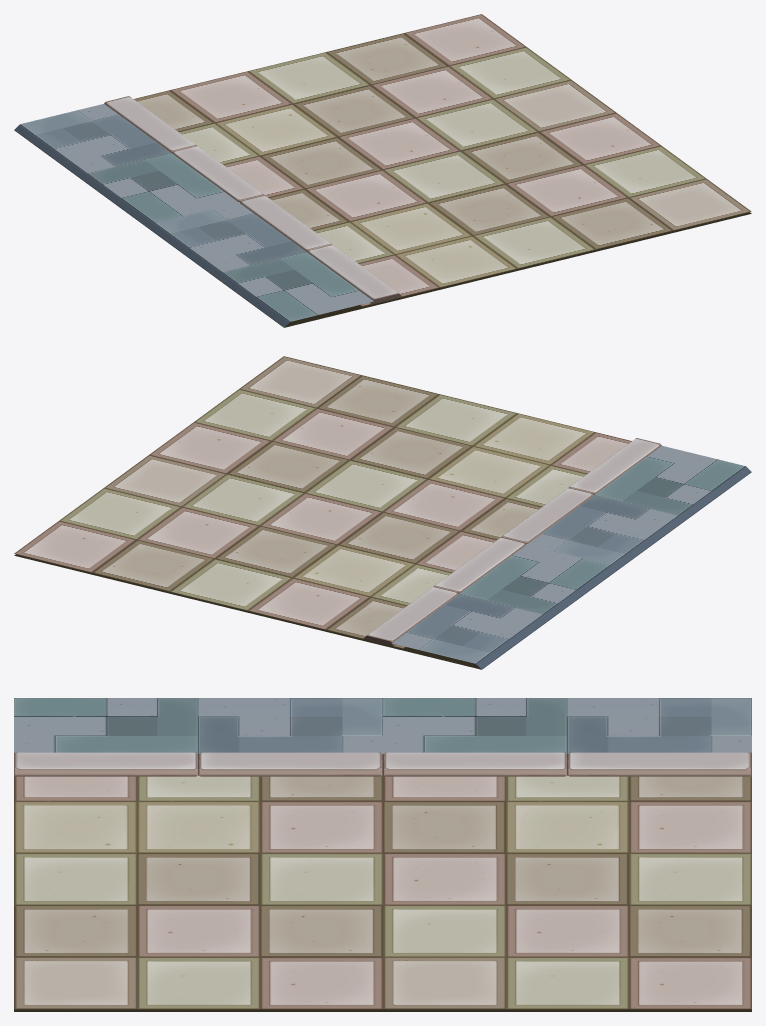
Rendered from road_openRoad.glb.
3 renders of one model, top to bottom at view 1: azimuth 30°, elevation 25°; view 2: azimuth 150°, elevation 25°; view 3: azimuth 270°, elevation 25°, orthographic. The views are drawn at different scales.
Parts seen in each view (by area): view 1: road_08; view 2: road_08; view 3: road_08.
Part boxes in pixels (left/top/right/bottom): road_08: left=14, top=14, right=751, bottom=327; road_08: left=14, top=356, right=751, bottom=669; road_08: left=14, top=698, right=751, bottom=1011.
Size of what is drawn, in the model's own units: 16 by 0.1983 by 16.
1 material, 1 textured.
